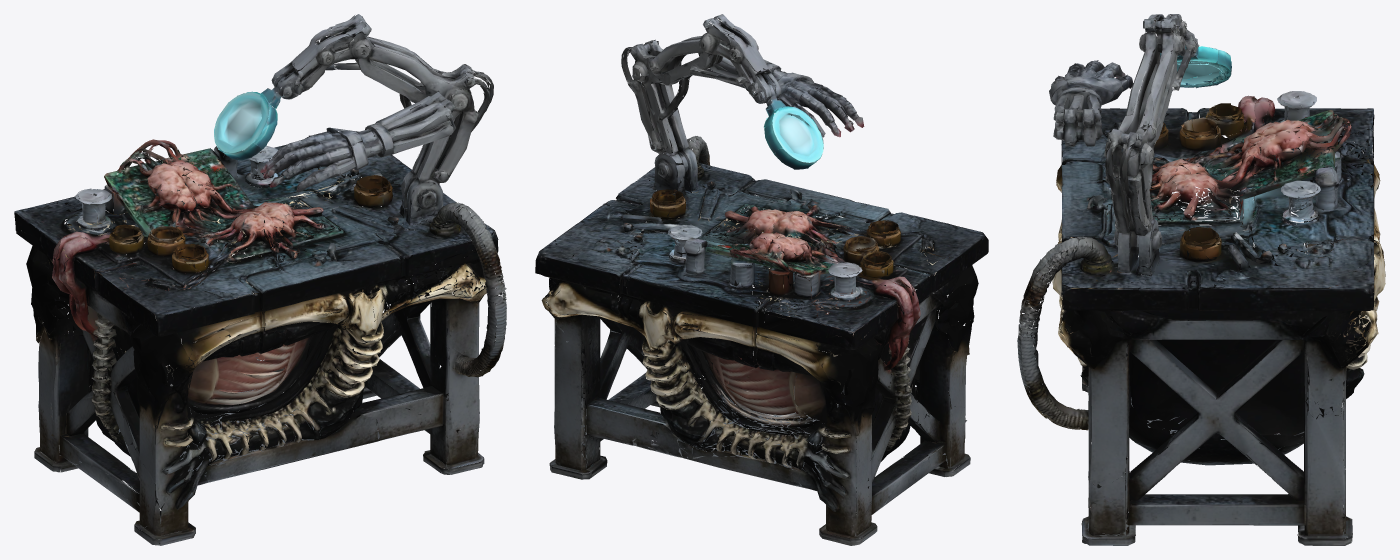
Rendered from meridian_soldering_hearth.glb.
3 views of the same model, side by side, from view 1: azimuth 30°, elevation 25°; view 2: azimuth 150°, elevation 25°; view 3: azimuth 270°, elevation 25° (orthographic). The views are drawn at different scales.
Parts seen in each view (by area): view 1: node_0; view 2: node_0; view 3: node_0.
Part boxes in pixels (box(x1,y1,x2,y2)): node_0: box(14, 14, 506, 545); node_0: box(535, 14, 988, 545); node_0: box(1017, 14, 1385, 545).
Bounding box in the file's own units: 0.7688 × 0.8674 × 0.6025.
Materials: 1 (1 with a texture image).
